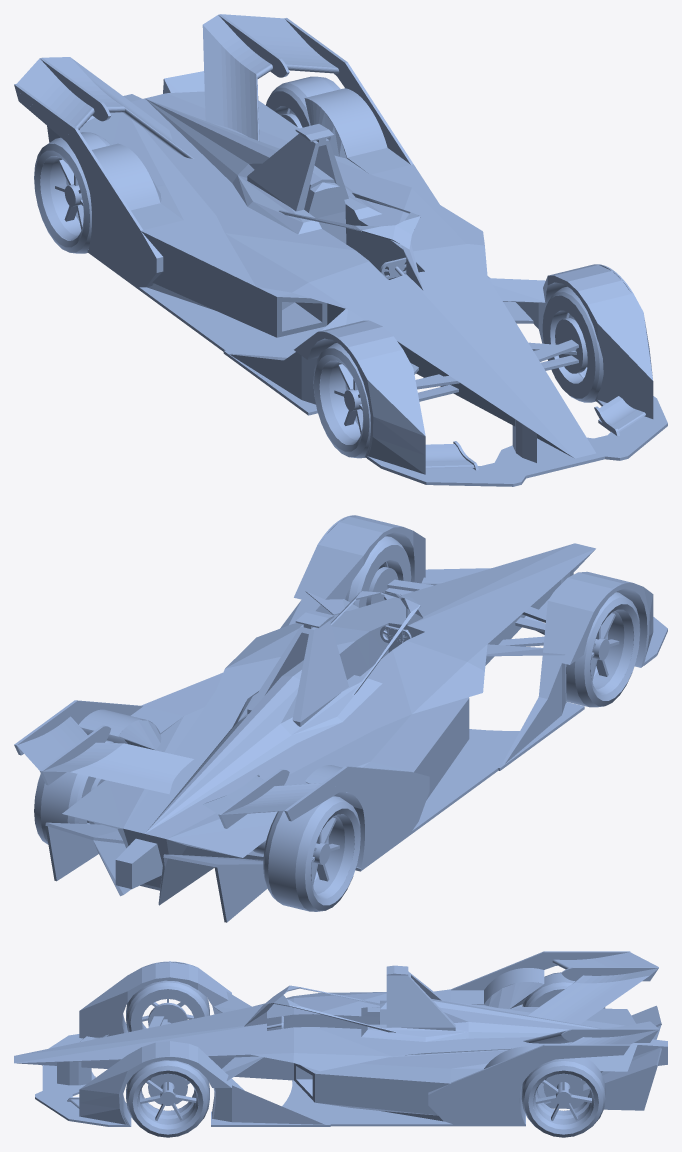
The model's file is gen2.glb.
The picture shows the model from 3 angles, top to bottom: view 1: azimuth 30°, elevation 25°; view 2: azimuth 150°, elevation 25°; view 3: azimuth 270°, elevation 25°; orthographic projection. The views are drawn at different scales.
Parts seen in each view (by area): view 1: gen2; view 2: gen2; view 3: gen2.
Boxes of the visible parts, left/top/right/bottom form: gen2: left=14, top=14, right=667, bottom=486; gen2: left=14, top=515, right=667, bottom=922; gen2: left=14, top=951, right=667, bottom=1137.
Size of the model in its own units: 1.99 by 1.2 by 5.76.
